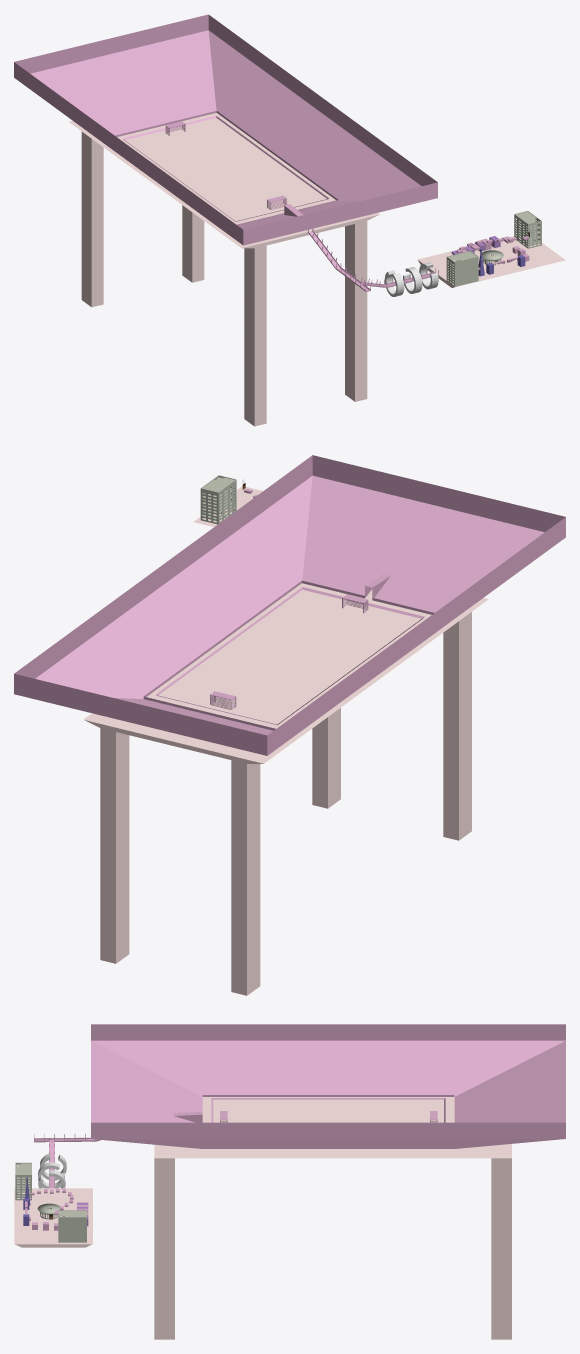
File: small.glb
The picture shows the model from 3 angles, top to bottom: view 1: azimuth 30°, elevation 25°; view 2: azimuth 150°, elevation 25°; view 3: azimuth 270°, elevation 25°; orthographic projection. The views are drawn at different scales.
Parts seen in each view (by area): view 1: Cube.032, Cube.033, Cube, Circle.001, Cube.035, Cube.034; view 2: Cube.032, Cube.033, Cube.034; view 3: Cube.032, Cube.033, Cube, Cube.034, Circle.001, Cube.035.
Part boxes in pixels (bbox=[...]): Cube.032: bbox=[14, 14, 437, 245]; Cube.033: bbox=[69, 113, 379, 426]; Cube: bbox=[417, 236, 565, 287]; Circle.001: bbox=[384, 262, 438, 296]; Cube.035: bbox=[446, 251, 478, 286]; Cube.034: bbox=[514, 211, 541, 248]; Cube.032: bbox=[14, 455, 565, 755]; Cube.033: bbox=[83, 583, 488, 995]; Cube.034: bbox=[200, 475, 236, 524]; Cube.032: bbox=[91, 1024, 565, 1148]; Cube.033: bbox=[154, 1097, 511, 1339]; Cube: bbox=[14, 1188, 92, 1247]; Cube.034: bbox=[58, 1210, 86, 1242]; Circle.001: bbox=[38, 1153, 66, 1188]; Cube.035: bbox=[15, 1162, 31, 1200].
Size of the model in its own units: 601 by 461 by 972.
Materials: 6 (1 with a texture image).
